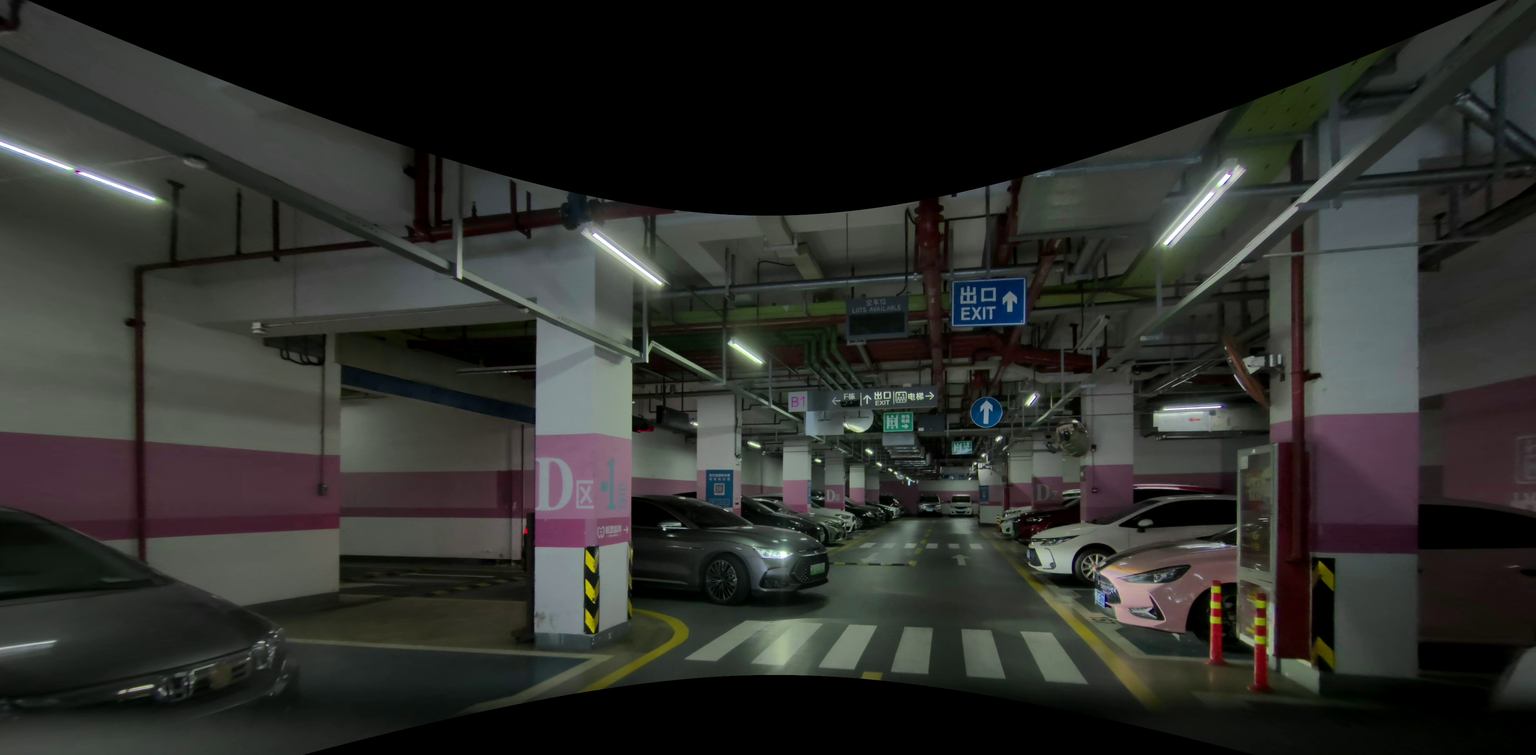-1层: (598, 452, 634, 514)
B1: (788, 395, 806, 408)
D区: (536, 457, 594, 514), (1034, 484, 1058, 504), (825, 489, 840, 502)
EXIT: (958, 306, 995, 319), (874, 399, 889, 406)
F栋: (842, 391, 855, 401)
LOTS AVAILABLE: (851, 305, 902, 315)
elevators: (886, 414, 897, 428), (895, 391, 906, 403), (953, 444, 961, 454)
上: (970, 396, 1003, 427), (980, 400, 993, 424), (1001, 293, 1015, 312), (950, 553, 969, 567), (861, 393, 872, 405)
下: (860, 552, 879, 563)
出口: (957, 284, 995, 303), (873, 389, 891, 399)
右: (925, 391, 937, 401), (622, 525, 631, 535), (901, 423, 910, 429)
商场电梯: (900, 413, 910, 423)
左: (831, 395, 842, 404)
机灵齿科: (603, 524, 621, 535)
电梯: (907, 392, 924, 400)
空车位: (864, 296, 886, 306)
